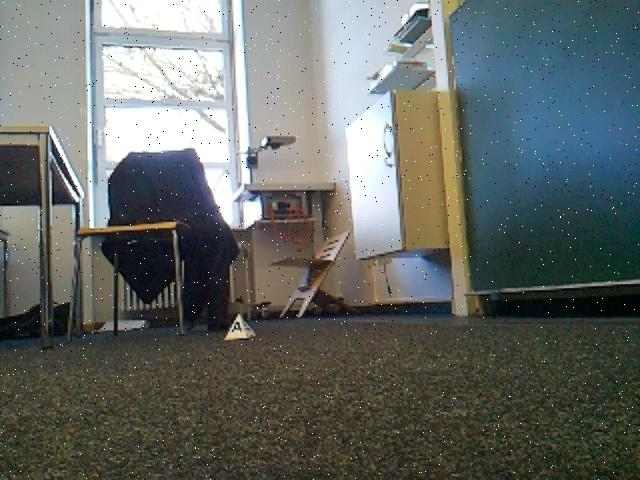A: (225, 314, 255, 339)
